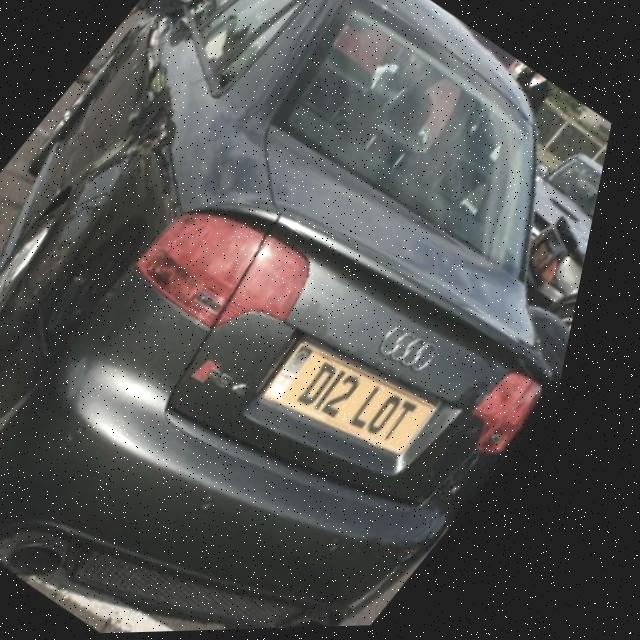license_plate: (261, 322, 469, 484), (366, 62, 396, 93), (536, 244, 566, 273)
